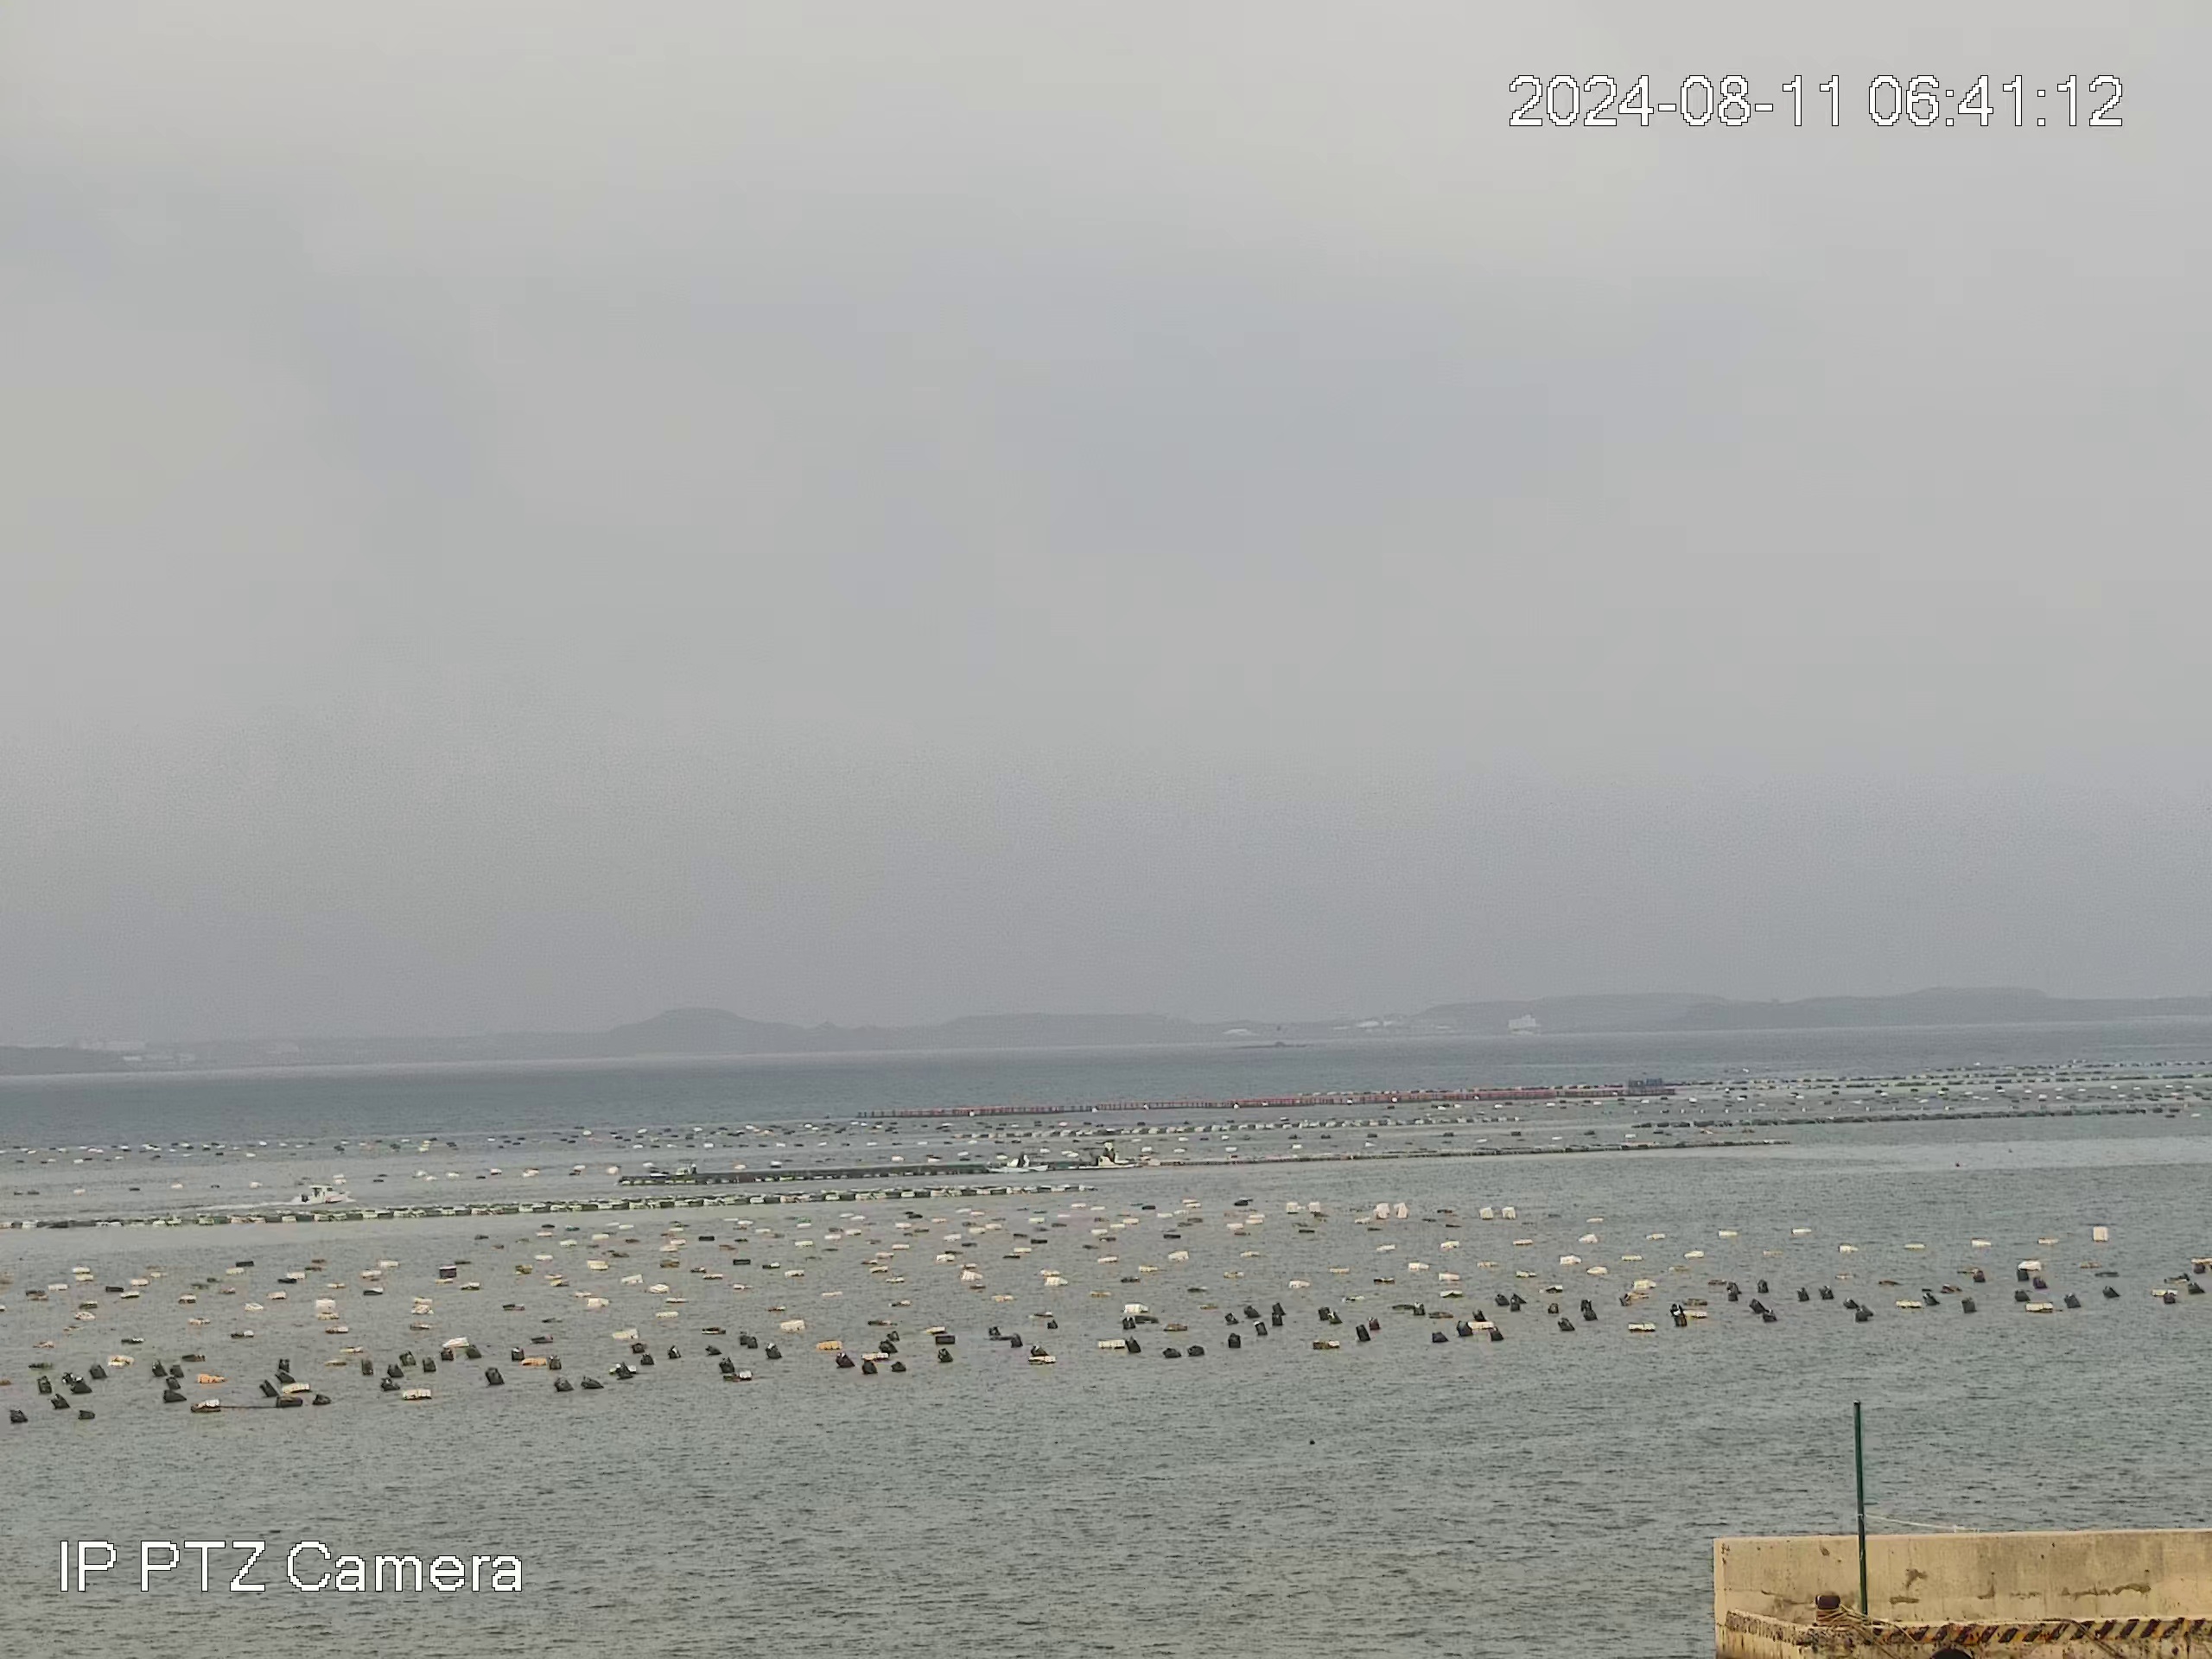boat: (1066, 1147, 1134, 1169), (984, 1152, 1049, 1175), (300, 1183, 352, 1206)
